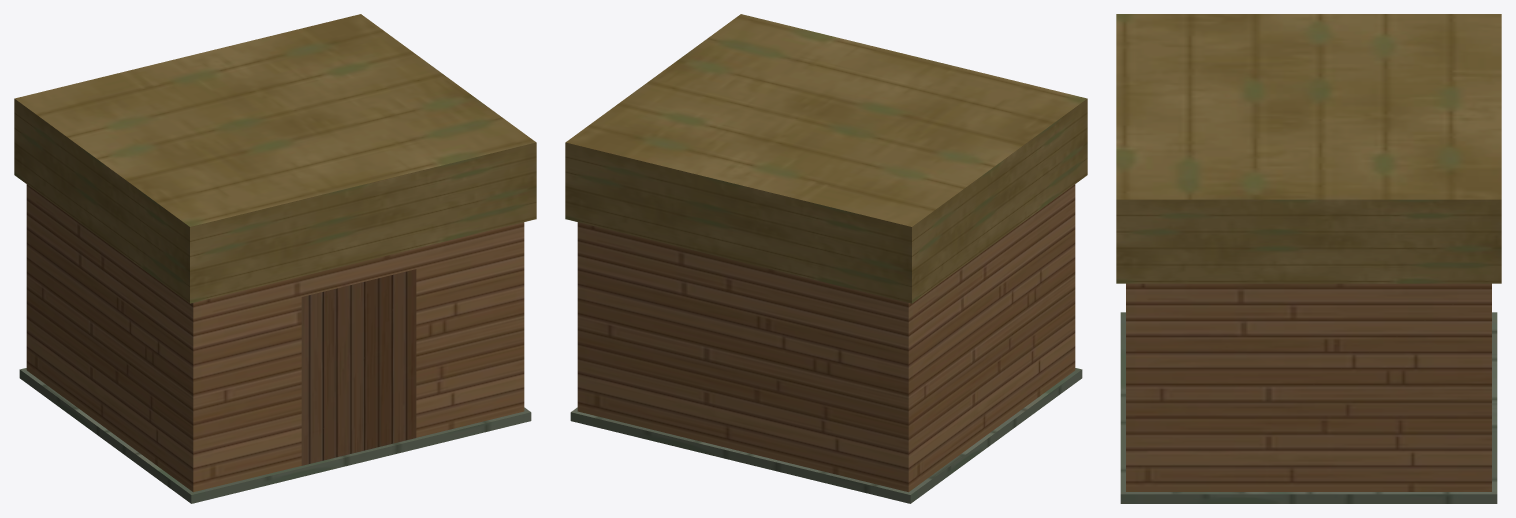
Rendered from house_booth_b_lod1.glb.
3 renders of one model, left to right at view 1: azimuth 30°, elevation 25°; view 2: azimuth 150°, elevation 25°; view 3: azimuth 270°, elevation 25°, orthographic. The views are drawn at different scales.
Visible parts, largest first — view 1: ae_jungle_house_booth_b_lod1; view 2: ae_jungle_house_booth_b_lod1; view 3: ae_jungle_house_booth_b_lod1.
Boxes of the visible parts, x1,y1,x2,y2 form: ae_jungle_house_booth_b_lod1: (14,14,536,503); ae_jungle_house_booth_b_lod1: (565,14,1087,503); ae_jungle_house_booth_b_lod1: (1116,14,1501,503).
Size of the model in its own units: 4.08 by 3.14 by 3.58.
1 material, 1 textured.
